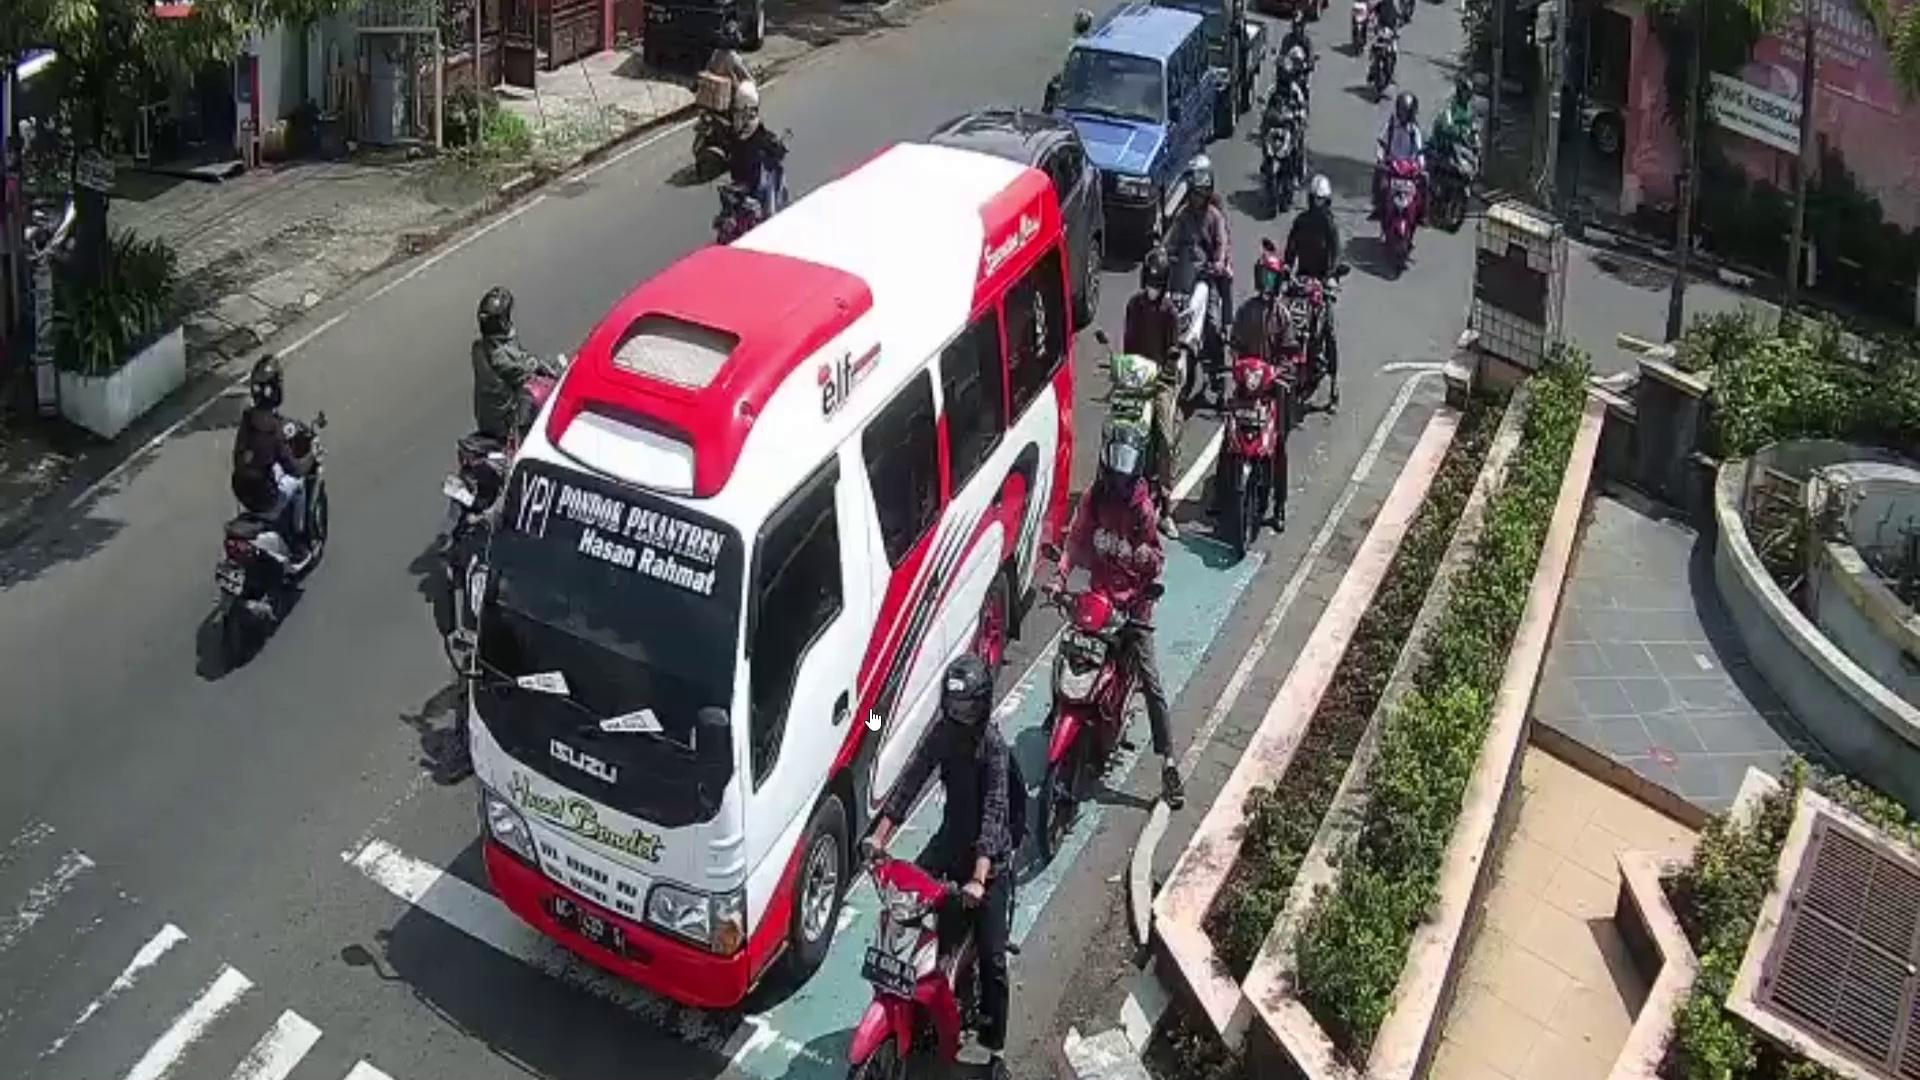bus: (471, 138, 1073, 1002)
car: (1052, 0, 1221, 244), (938, 105, 1110, 310), (1195, 0, 1273, 116)
motorbike: (856, 847, 997, 1080), (206, 417, 327, 667), (1047, 585, 1138, 848), (1089, 353, 1170, 526), (1228, 365, 1280, 555), (713, 131, 794, 240), (692, 63, 757, 173), (1287, 282, 1337, 410), (1429, 125, 1484, 232), (1386, 162, 1420, 276), (1267, 102, 1295, 207)
